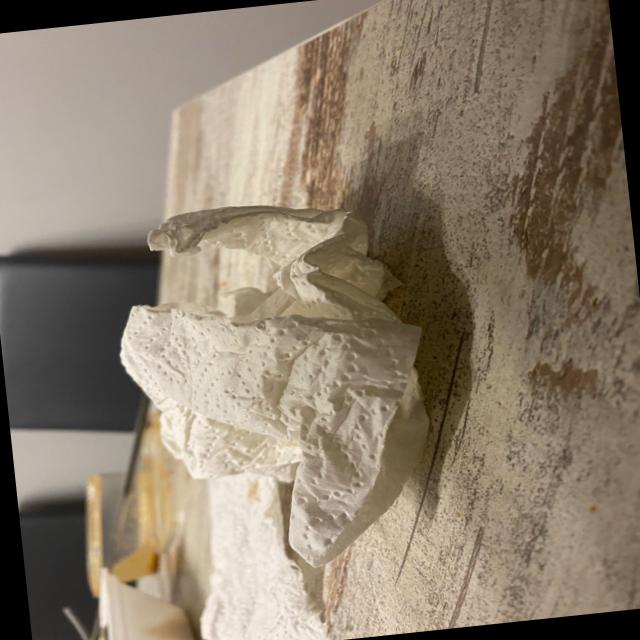organic waste: (98, 185, 448, 578), (178, 467, 331, 640)
